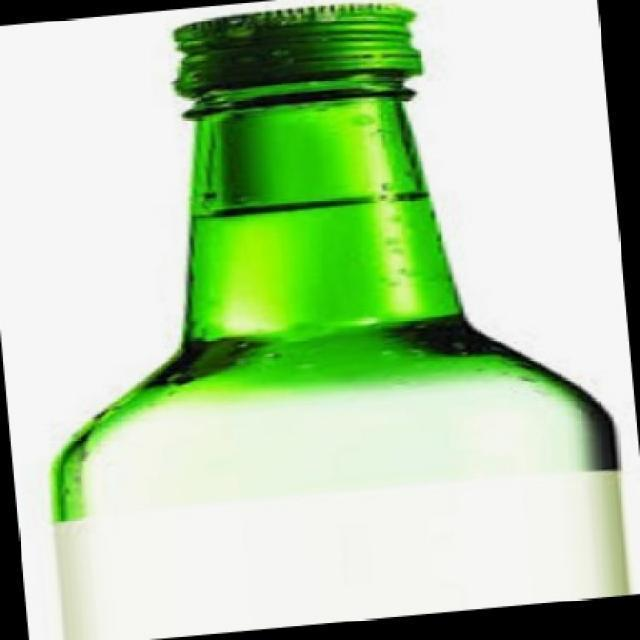Glass: (49, 0, 636, 640)
